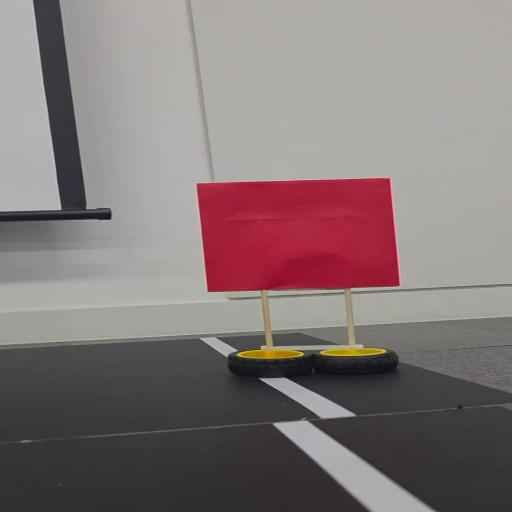Sign_A: (191, 174, 418, 389)
